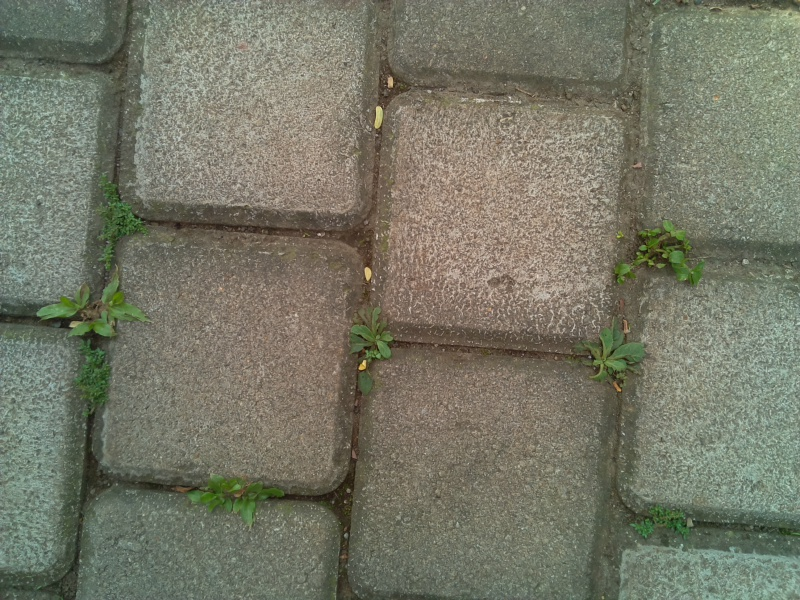Weed: (605, 217, 712, 292), (36, 278, 157, 344), (177, 467, 300, 527), (91, 168, 148, 270), (577, 323, 652, 390), (67, 341, 122, 423), (624, 497, 698, 546), (347, 303, 396, 363)
